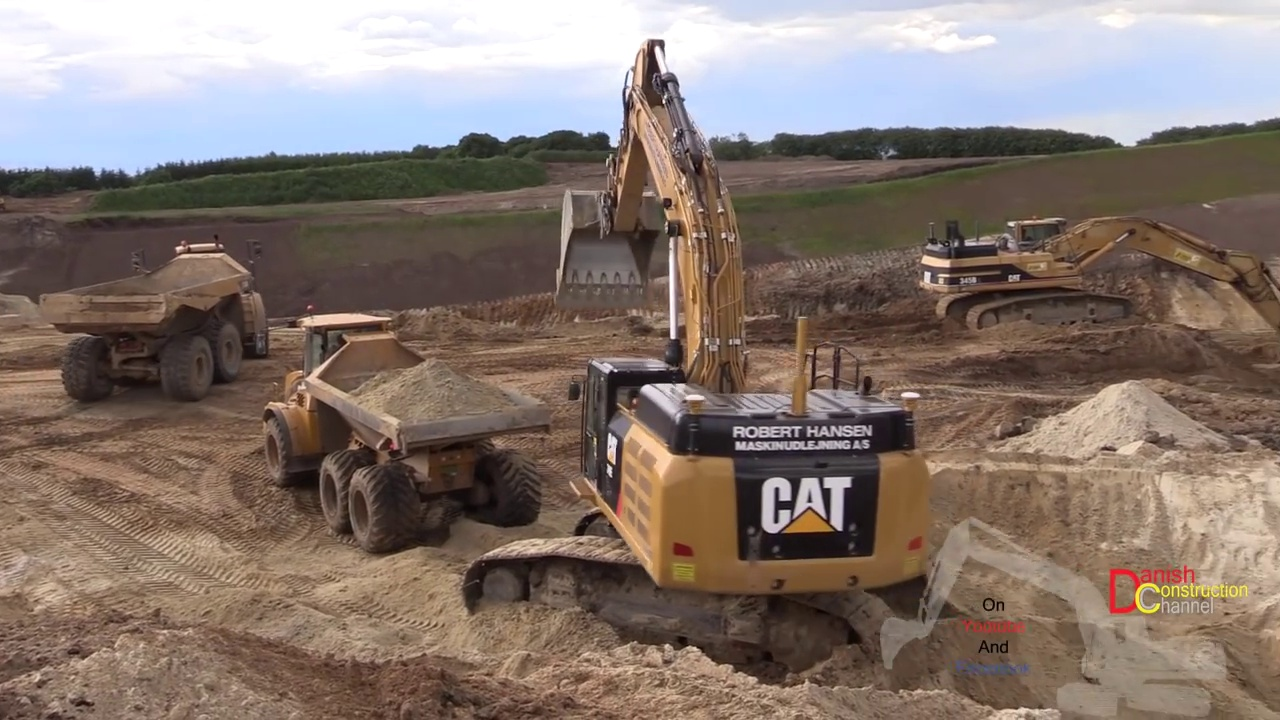dumper: (266, 308, 554, 549), (35, 242, 263, 398)
excavator: (461, 37, 934, 685), (906, 213, 1280, 338)
